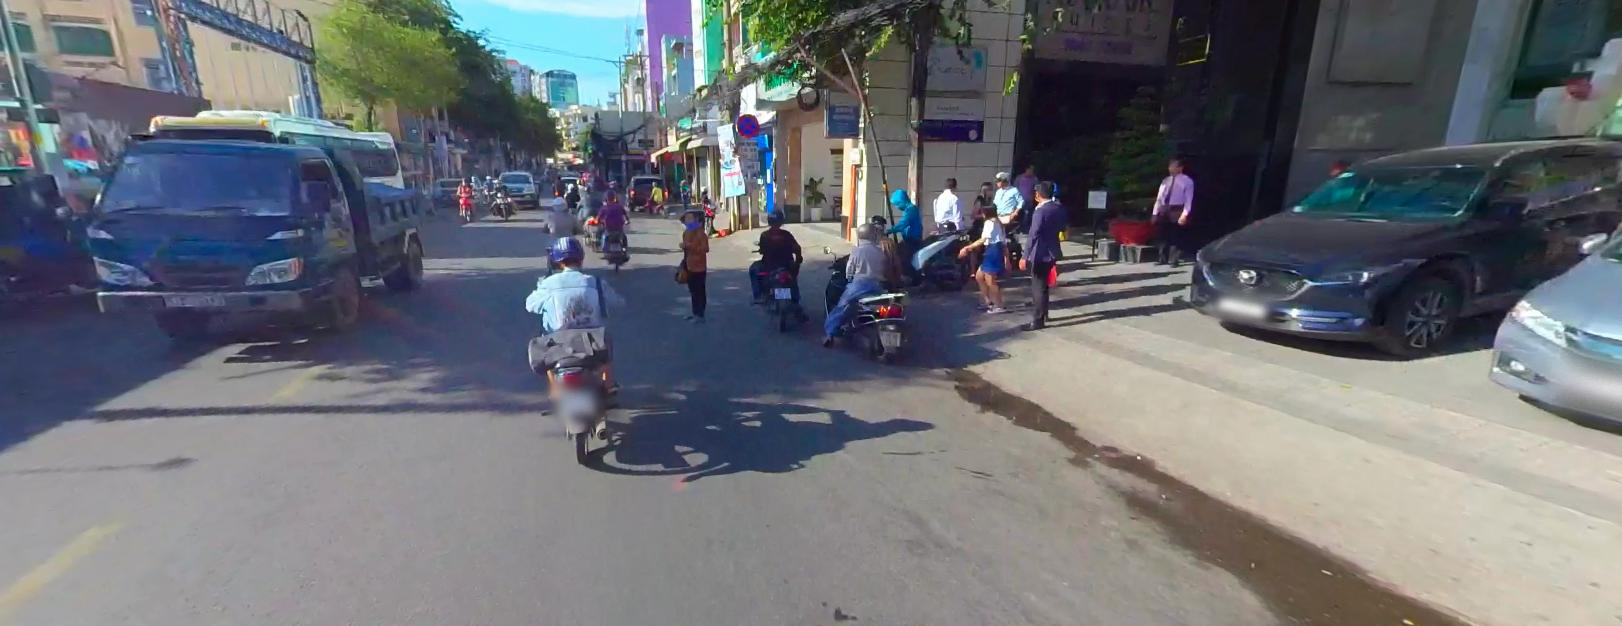Cam dung va do: (735, 113, 758, 136)
